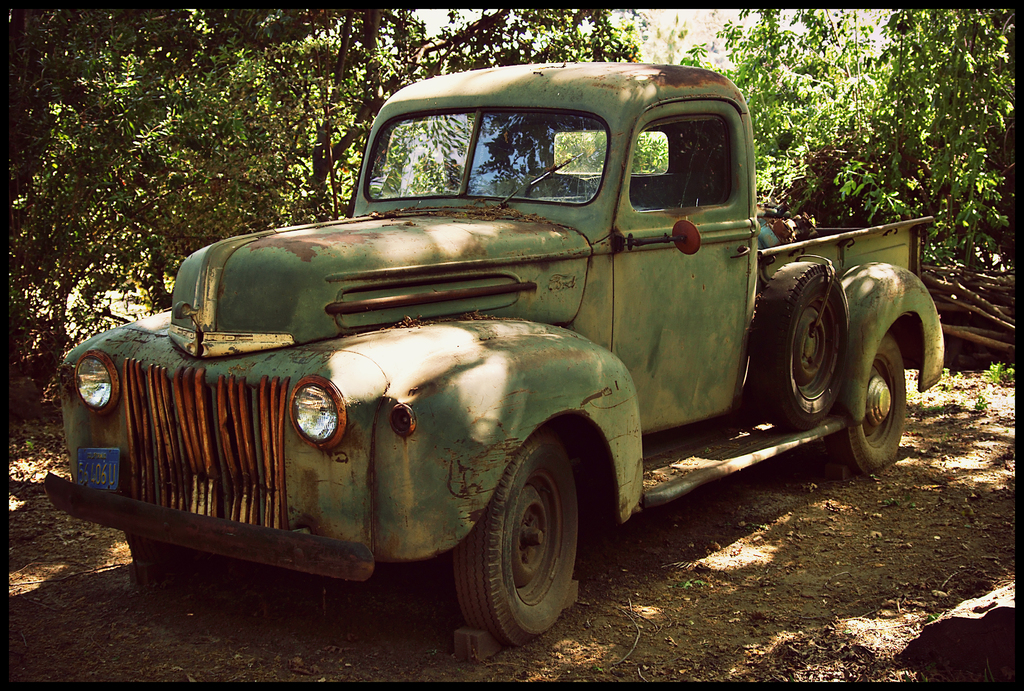car: (39, 51, 966, 658)
